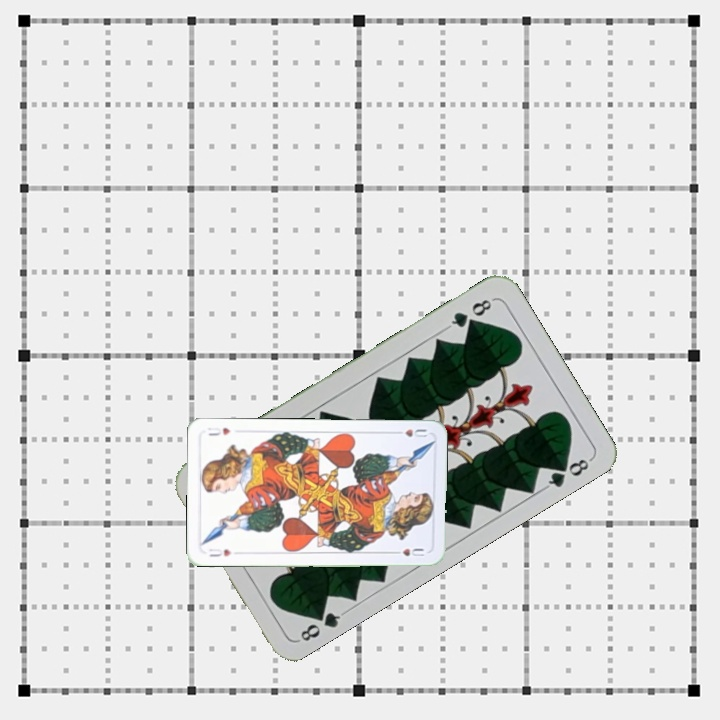G8: (295, 603, 348, 644), (443, 295, 496, 332)
HU: (390, 425, 430, 440), (205, 544, 234, 559)
